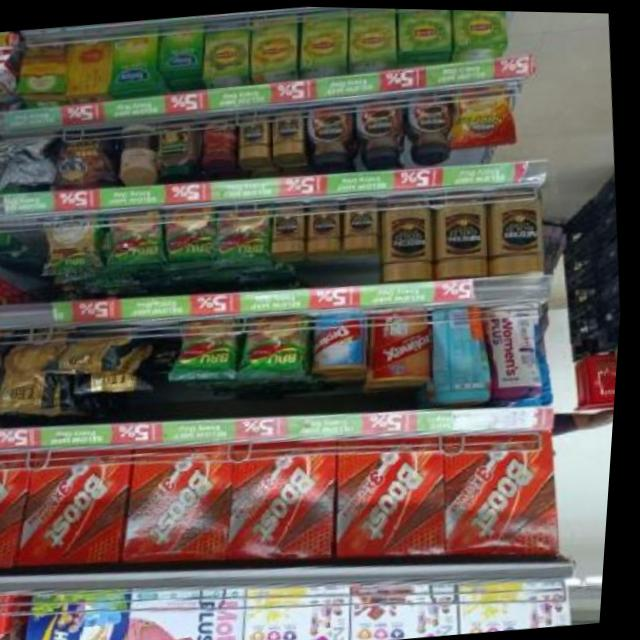Coffee: (486, 182, 550, 274), (433, 185, 494, 276), (380, 190, 438, 281), (449, 81, 517, 145), (353, 94, 412, 158), (402, 88, 459, 153), (306, 100, 359, 162), (271, 200, 310, 254), (236, 109, 276, 157), (309, 198, 346, 248), (344, 197, 380, 248), (272, 104, 308, 153)
